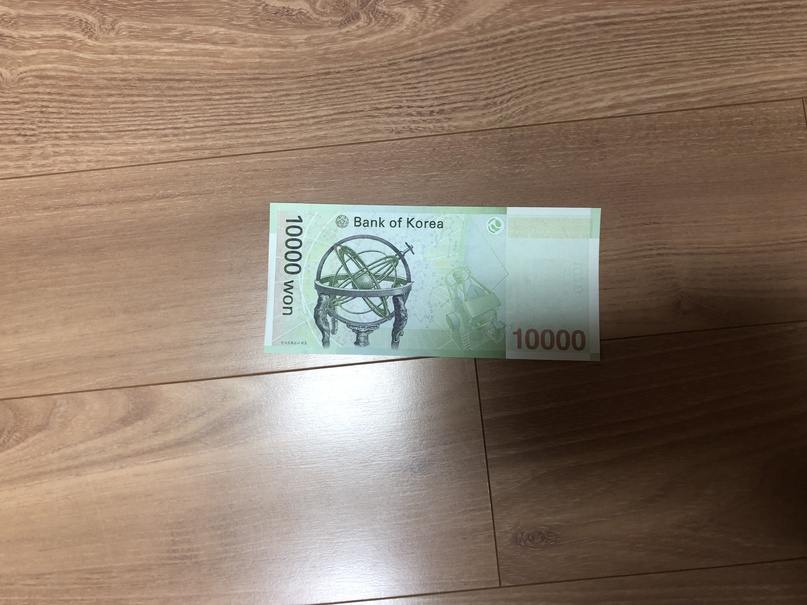10000won: (264, 202, 602, 365)
